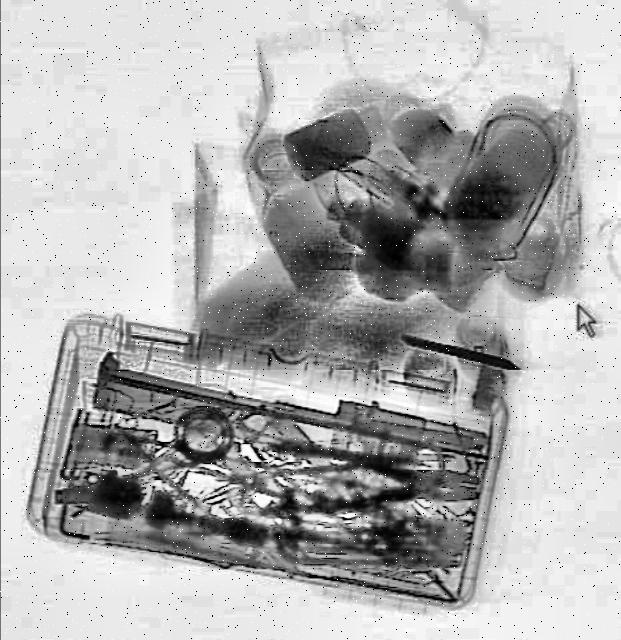Pliers: (258, 439, 480, 519)
